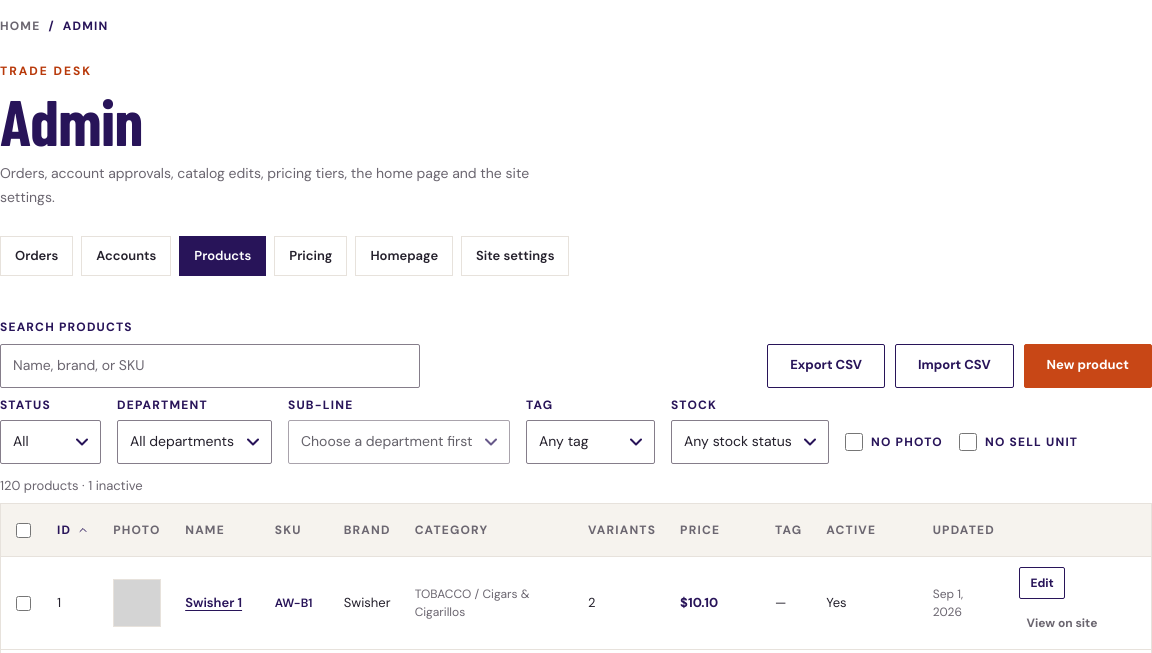
it: bulk updates (AW-114) › shows a refused update next to the bar and changes nothing
The width and height of the screenshot is (1152, 653).
Step 1. Click the checkbox named "Select Swisher 1" in the row of "Swisher 1" → (23, 603), box x1=16 y1=596 x2=30 y2=611
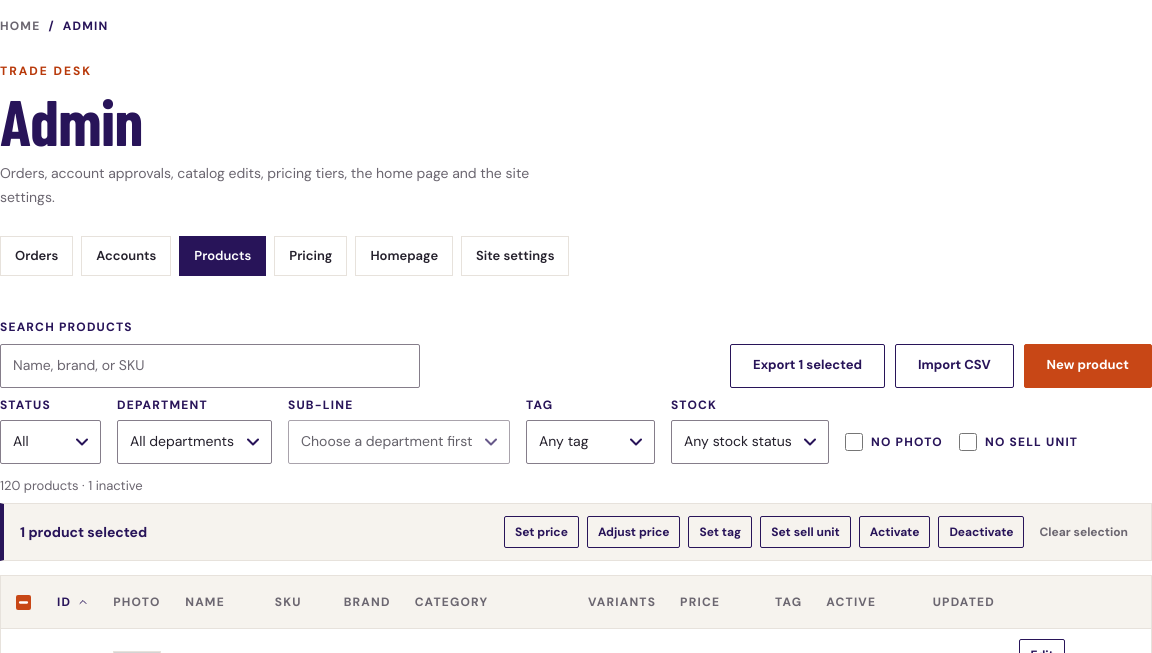
Step 2. Click the button "Activate" → (895, 532), box x1=859 y1=516 x2=930 y2=548
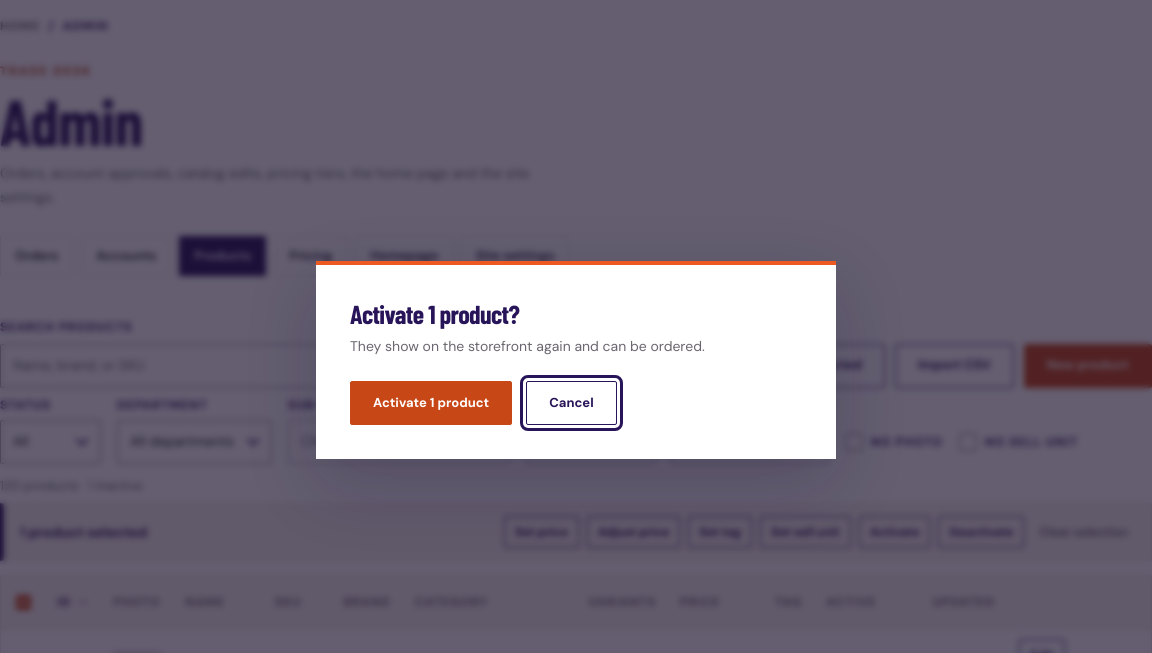
Step 3. Click the button "Activate 1 product" → (431, 403), box x1=350 y1=381 x2=512 y2=425
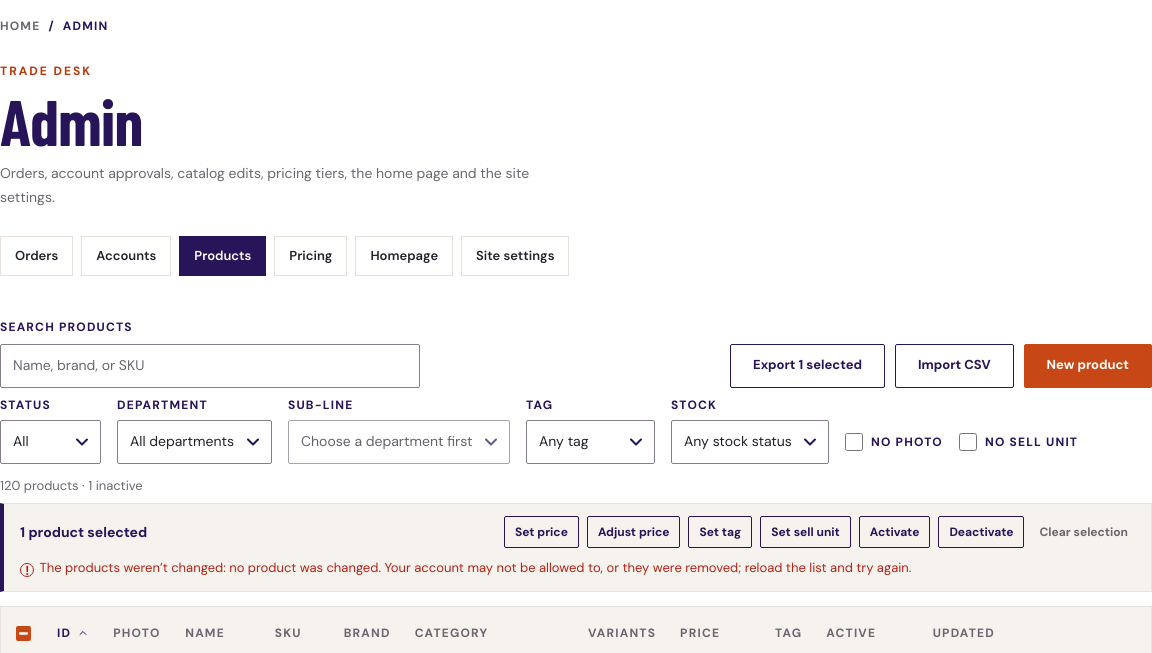
Now the message shows "The products weren’t changed: no product was changed", box x1=40 y1=559 x2=911 y2=576
